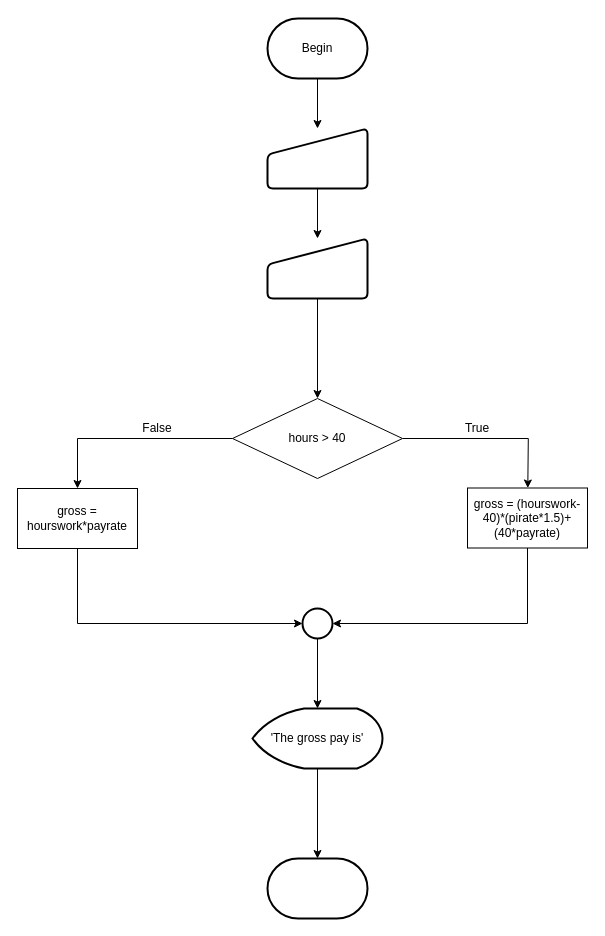
Image size: 605x936. Some labels were removed from this diagram. The shapes that lost their labels are listed below. From the top down, each one's centre as x and y in pixels, then its label:
pixel 317 158: hourswork
pixel 317 268: payrate
pixel 317 888: End
